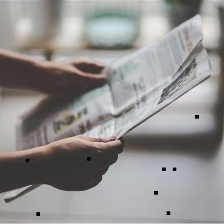news_paper: (0, 11, 215, 205)
